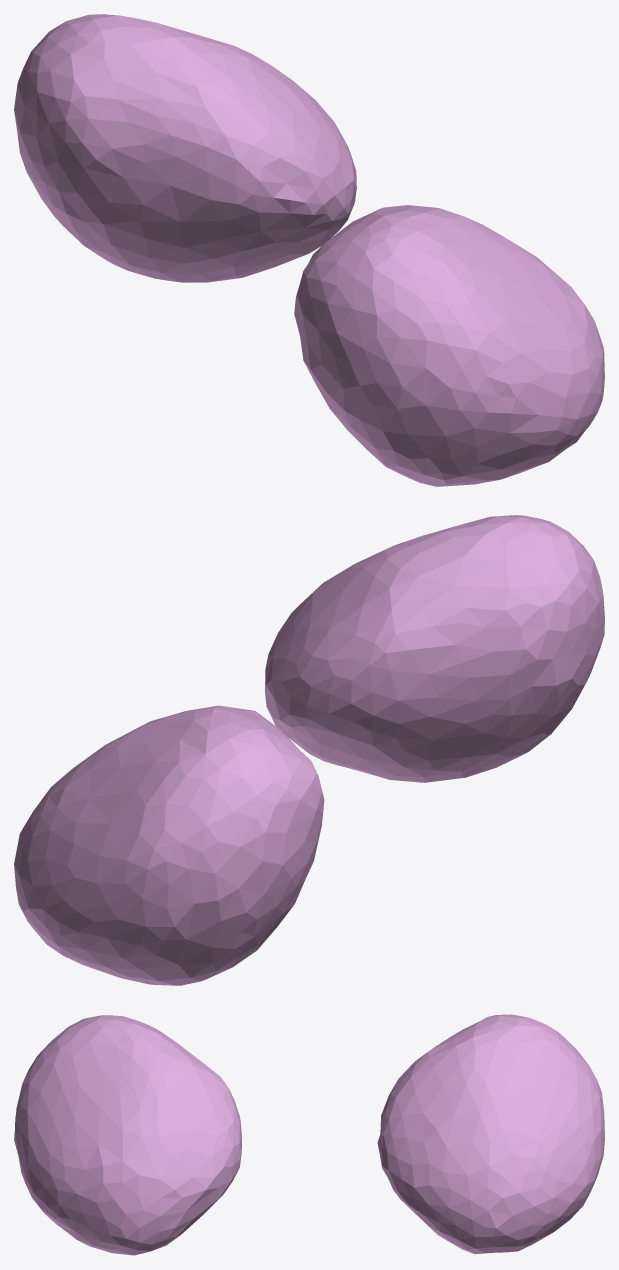
3 views of the same model, one above another, from view 1: azimuth 30°, elevation 25°; view 2: azimuth 150°, elevation 25°; view 3: azimuth 270°, elevation 25° (orthographic). The views are drawn at different scales.
Parts seen in each view (by area): view 1: 214.obj; view 2: 214.obj; view 3: 214.obj.
Part boxes in pixels (x1,y1,x2,y2): 214.obj: (14,14,604,486); 214.obj: (14,515,604,985); 214.obj: (14,1014,604,1255).
Bounding box in the file's own units: 984 × 860 × 2452.
